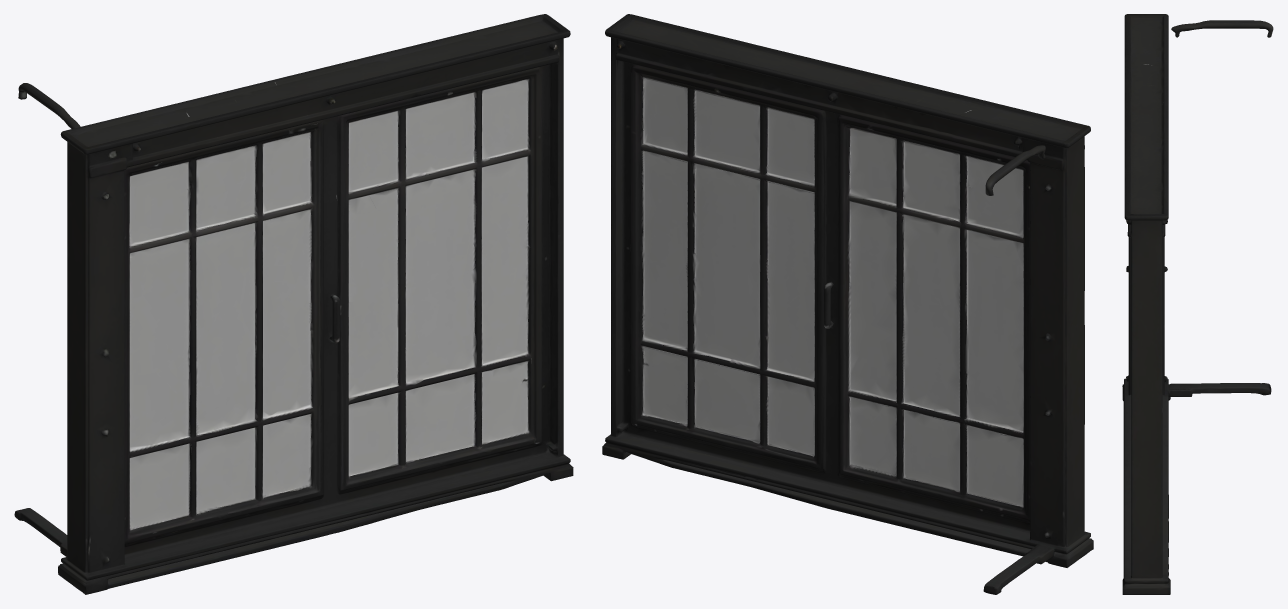
Rendered from window_standard_01.glb.
3 renders of one model, left to right at view 1: azimuth 30°, elevation 25°; view 2: azimuth 150°, elevation 25°; view 3: azimuth 270°, elevation 25°, orthographic. The views are drawn at different scales.
Visible parts, largest first — view 1: tripo_node_3c59cc0c-49ec-45df-ae51-24ca54220c63; view 2: tripo_node_3c59cc0c-49ec-45df-ae51-24ca54220c63; view 3: tripo_node_3c59cc0c-49ec-45df-ae51-24ca54220c63.
Part boxes in pixels (left/top/right/bottom): tripo_node_3c59cc0c-49ec-45df-ae51-24ca54220c63: left=14, top=14, right=573, bottom=594; tripo_node_3c59cc0c-49ec-45df-ae51-24ca54220c63: left=602, top=14, right=1093, bottom=594; tripo_node_3c59cc0c-49ec-45df-ae51-24ca54220c63: left=1122, top=14, right=1273, bottom=594.
Size of the model in its own units: 0.9999 by 0.8742 by 0.3137.
1 material, 1 textured.
